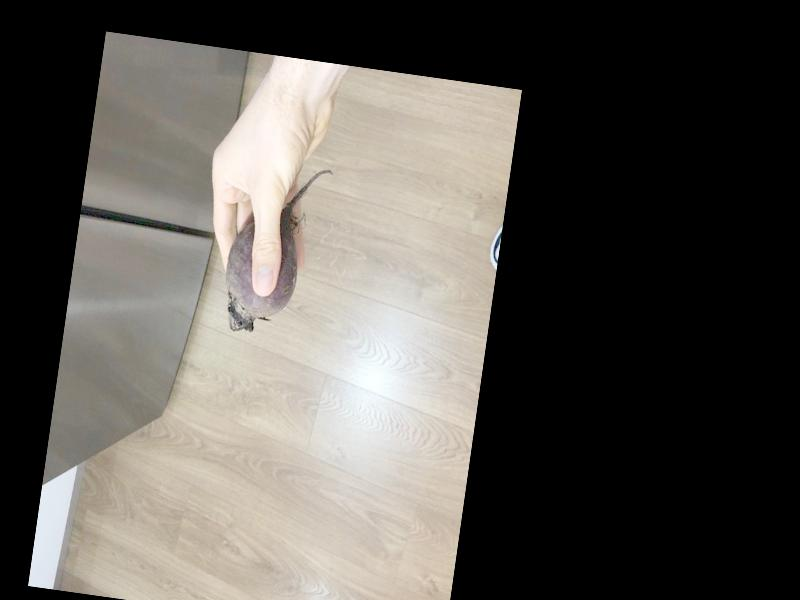Beet: (217, 159, 333, 343)
